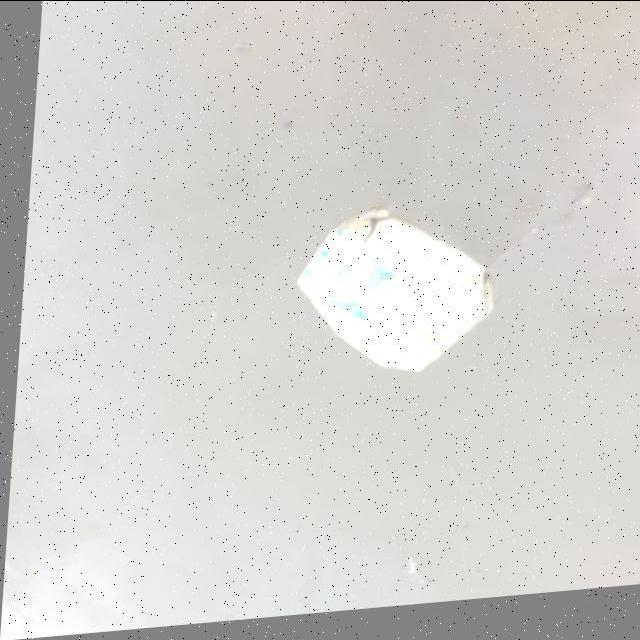Waste: (291, 200, 502, 383)
